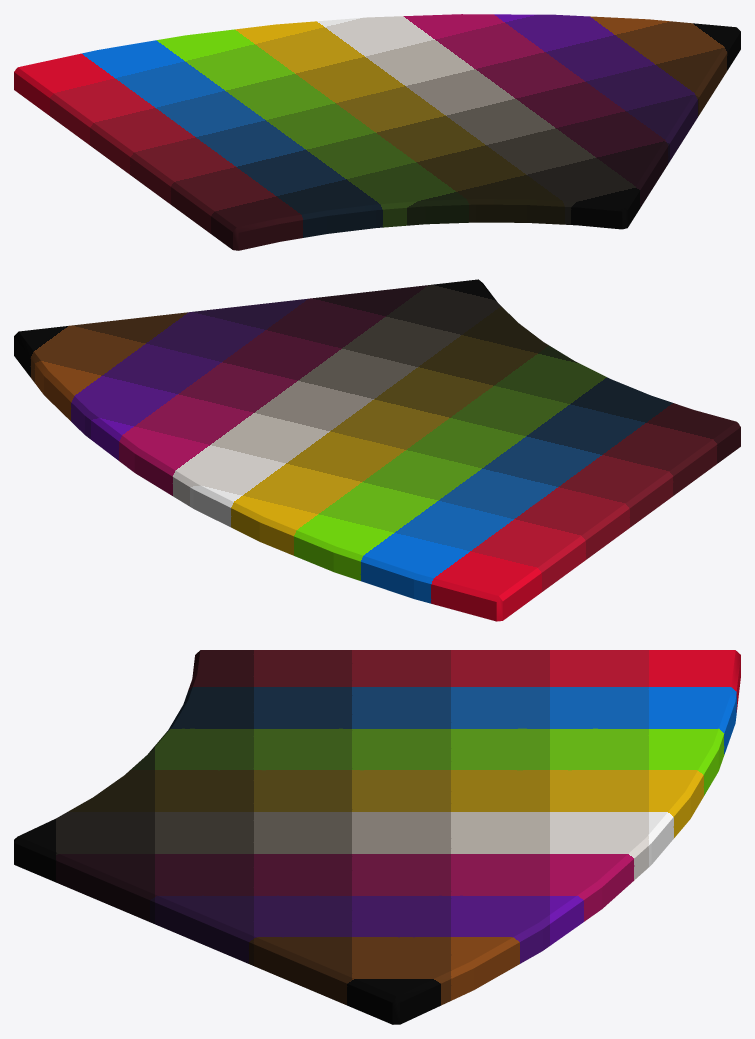
The model's file is ring1.FBX.
The picture shows the model from 3 angles, top to bottom: view 1: azimuth 30°, elevation 25°; view 2: azimuth 150°, elevation 25°; view 3: azimuth 270°, elevation 25°; orthographic projection. The views are drawn at different scales.
Parts seen in each view (by area): view 1: ring1; view 2: ring1; view 3: ring1.
Part boxes in pixels (bbox=[...]): ring1: bbox=[14, 14, 740, 250]; ring1: bbox=[14, 279, 740, 621]; ring1: bbox=[14, 650, 740, 1024].
Size of the model in its own units: 155 by 5.51 by 136.
Materials: 1 (1 with a texture image).
